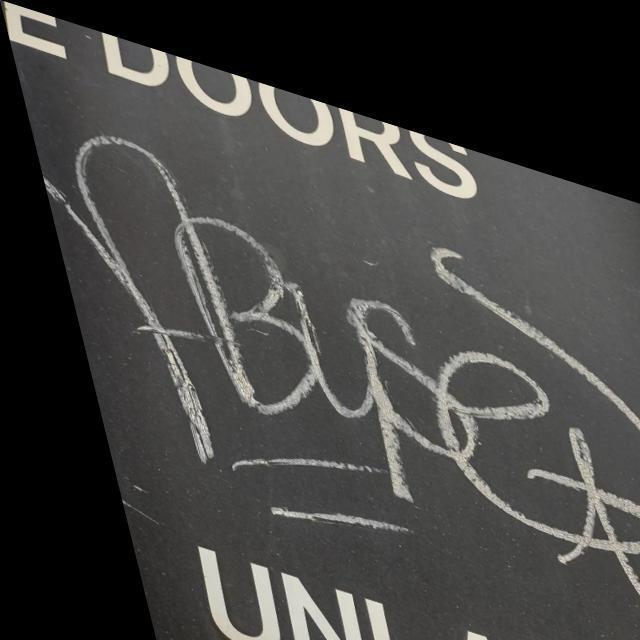-: (15, 78, 640, 640), (1, 0, 518, 195), (143, 511, 640, 640)
